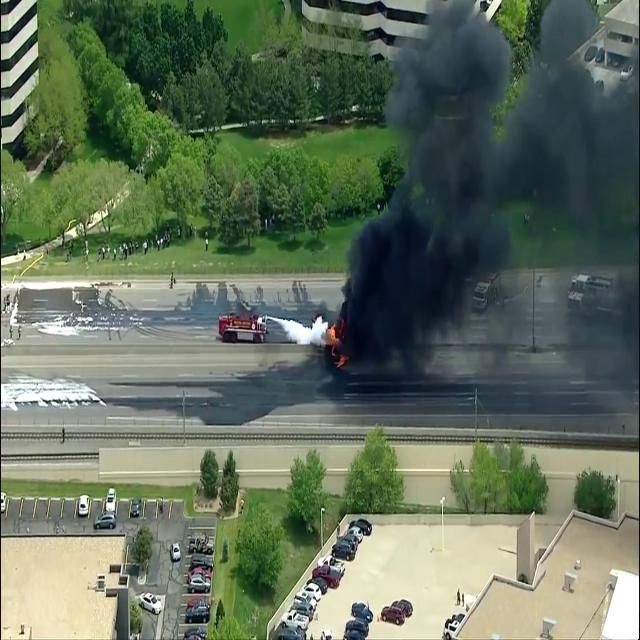Smoke: (334, 0, 638, 383)
